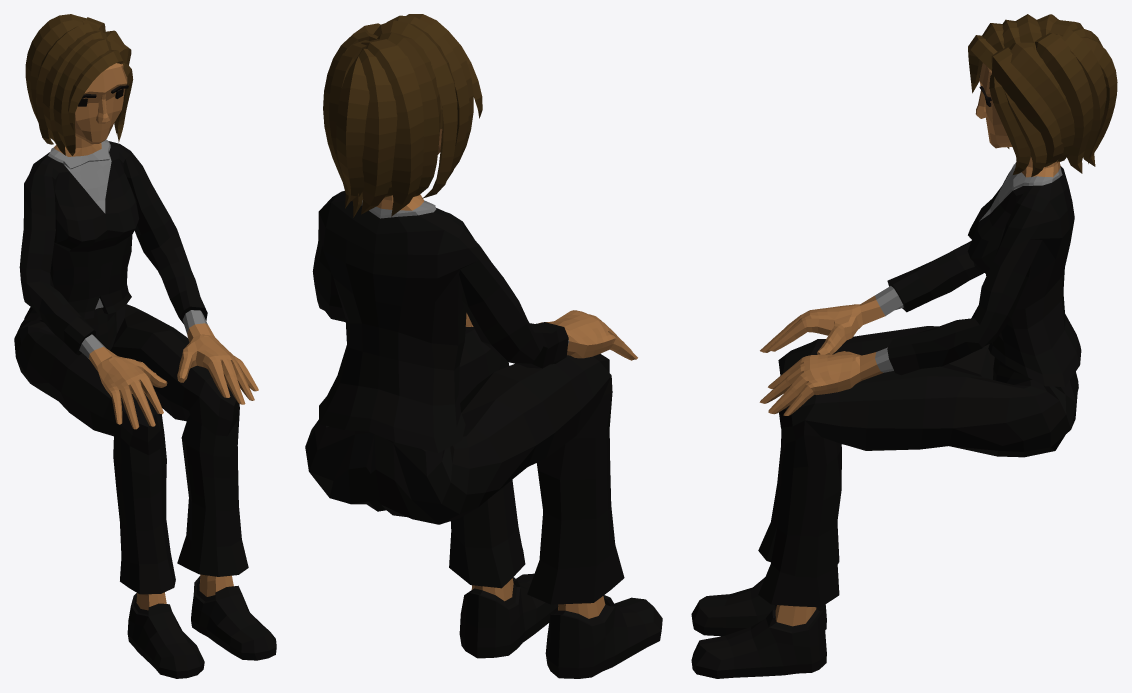
Rendered from w_suit.obj.
3 renders of one model, left to right at view 1: azimuth 30°, elevation 25°; view 2: azimuth 150°, elevation 25°; view 3: azimuth 270°, elevation 25°, orthographic. The views are drawn at different scales.
Parts seen in each view (by area): view 1: Suit_Legs, Suit_Body, Suit_Head, Suit_Feet; view 2: Suit_Legs, Suit_Body, Suit_Head, Suit_Feet; view 3: Suit_Legs, Suit_Body, Suit_Head, Suit_Feet.
Part boxes in pixels (bbox=[...]): Suit_Legs: bbox=[14, 304, 248, 594]; Suit_Body: bbox=[19, 139, 258, 429]; Suit_Head: bbox=[25, 14, 133, 155]; Suit_Feet: bbox=[127, 574, 276, 678]; Suit_Legs: bbox=[305, 326, 624, 604]; Suit_Body: bbox=[312, 190, 637, 452]; Suit_Head: bbox=[323, 14, 482, 217]; Suit_Feet: bbox=[459, 573, 662, 678]; Suit_Legs: bbox=[758, 326, 1078, 607]; Suit_Body: bbox=[759, 162, 1081, 415]; Suit_Head: bbox=[968, 14, 1117, 176]; Suit_Feet: bbox=[691, 577, 826, 678].
Bounding box in the file's own units: 0.4298 × 1.36 × 0.8329.
